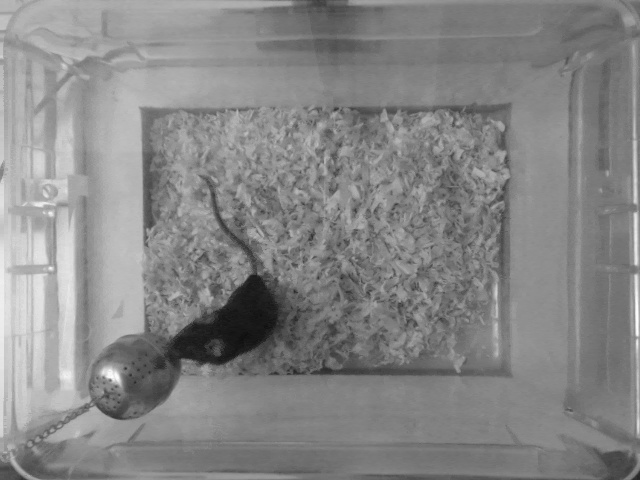mice: (169, 181, 281, 366)
